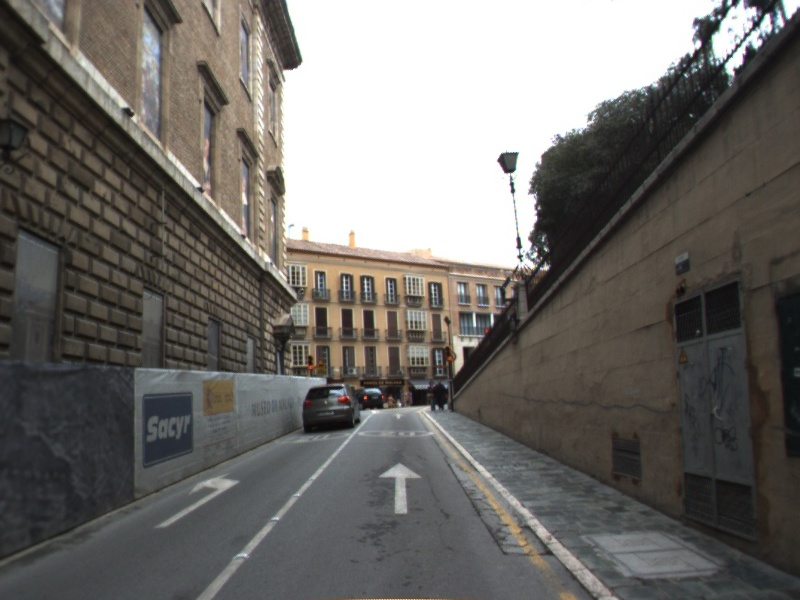LEFT: (151, 470, 242, 531)
STRAIGHT: (376, 460, 424, 516), (391, 412, 406, 420)
